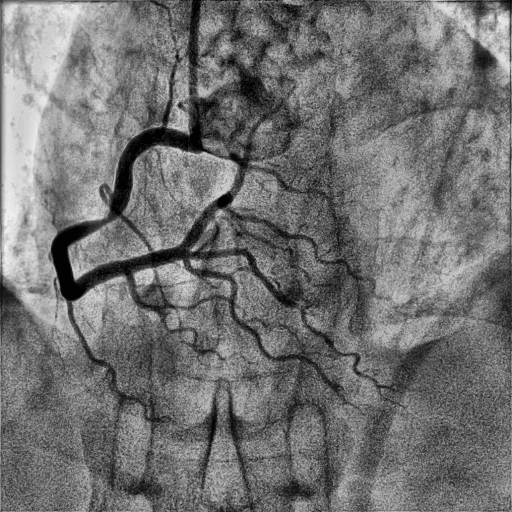pborca: (181, 141, 252, 251)
pda: (183, 252, 356, 407)
rca: (51, 127, 200, 301)
